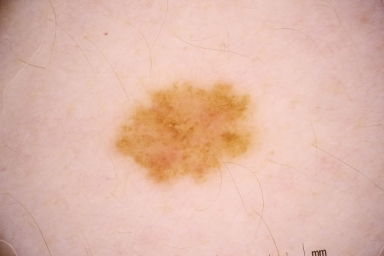nevus: (115, 84, 247, 184)
